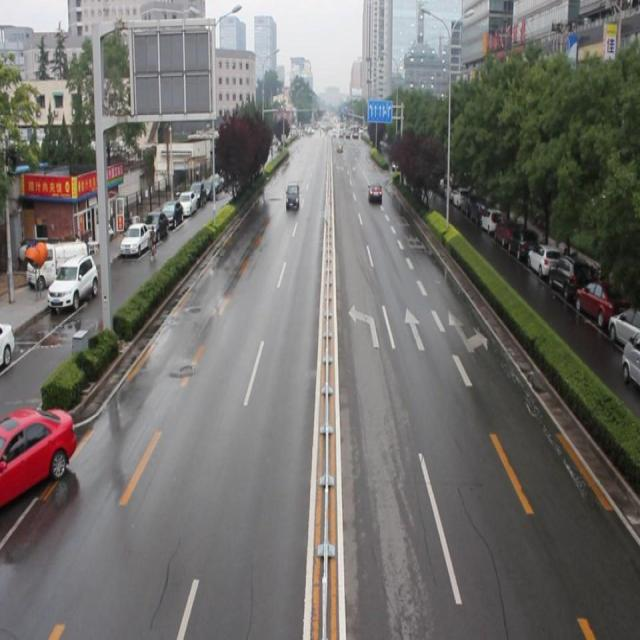car: (1, 404, 77, 506), (366, 181, 381, 202)
truck: (285, 180, 300, 212)
